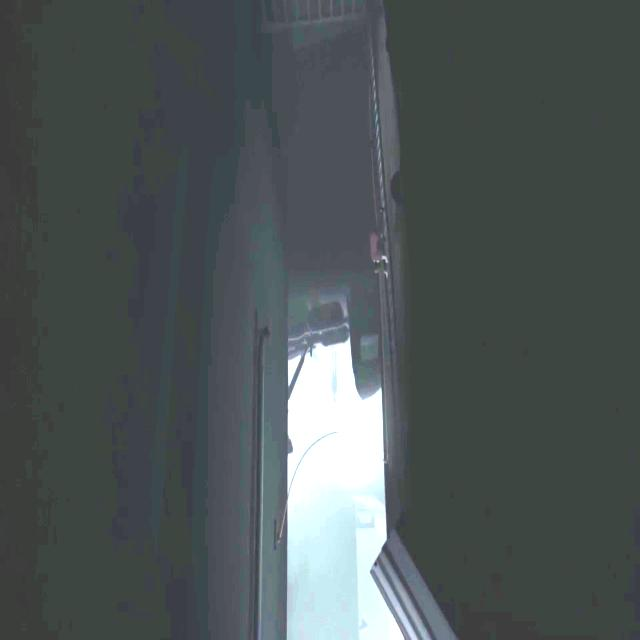boy: (370, 202, 389, 275)
zombie: (331, 353, 338, 403), (304, 375, 309, 407), (352, 381, 357, 407), (328, 396, 334, 412)
